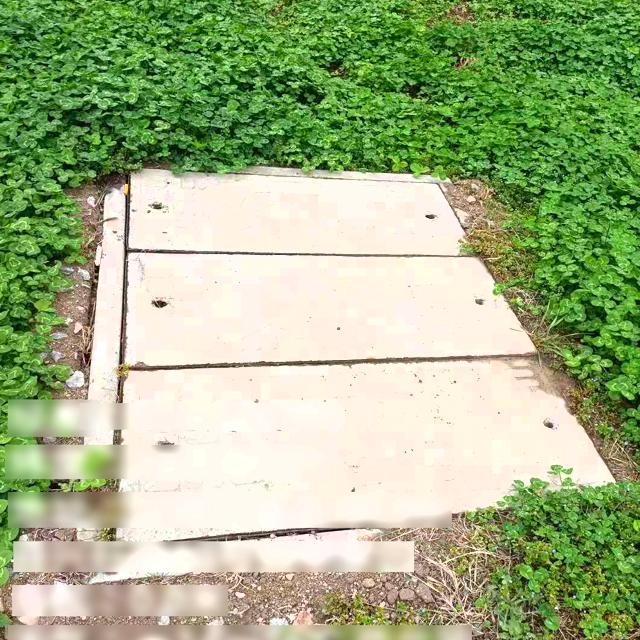good: (80, 156, 620, 581)
